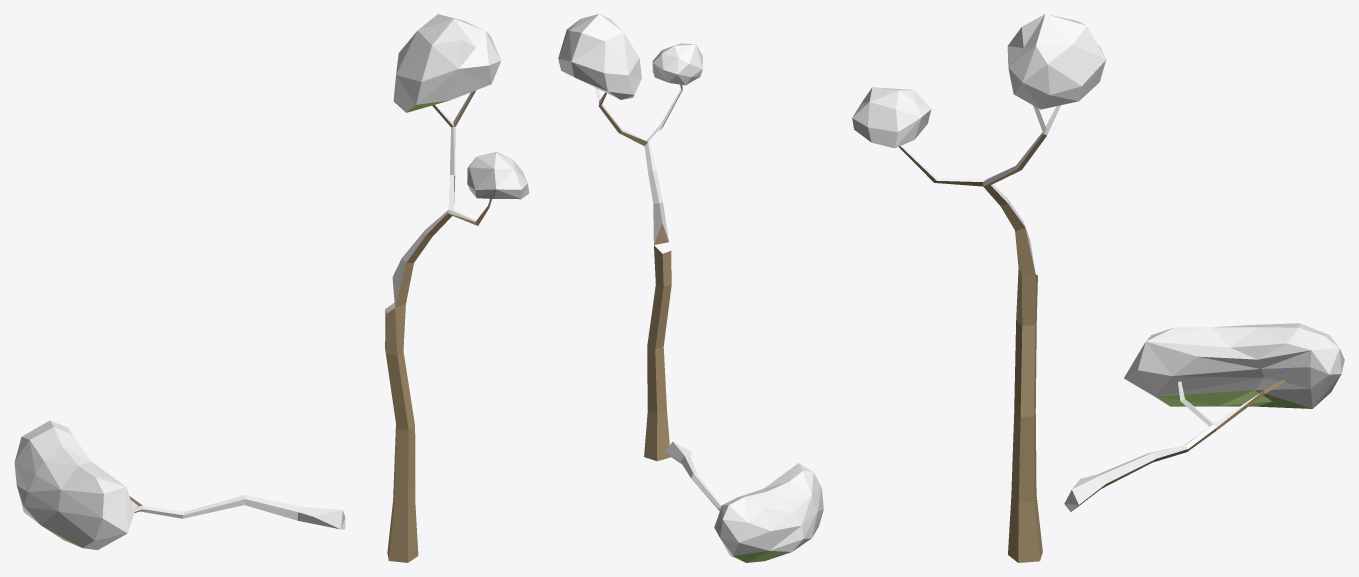
Rendered from Acacia_Tree_crk_s_Snow_02_LOD.fbx.
The picture shows the model from 3 angles, left to right: view 1: azimuth 30°, elevation 25°; view 2: azimuth 150°, elevation 25°; view 3: azimuth 270°, elevation 25°; orthographic projection. The views are drawn at different scales.
Visible parts, largest first — view 1: Acacia_Tree_crk_s_Snow_02_LOD0; view 2: Acacia_Tree_crk_s_Snow_02_LOD0; view 3: Acacia_Tree_crk_s_Snow_02_LOD0.
Part boxes in pixels (x1,y1,x2,y2): Acacia_Tree_crk_s_Snow_02_LOD0: [14, 14, 529, 562]; Acacia_Tree_crk_s_Snow_02_LOD0: [558, 14, 823, 562]; Acacia_Tree_crk_s_Snow_02_LOD0: [852, 14, 1344, 562].
Size of what is drawn, in the model's own units: 502 by 658 by 511.
